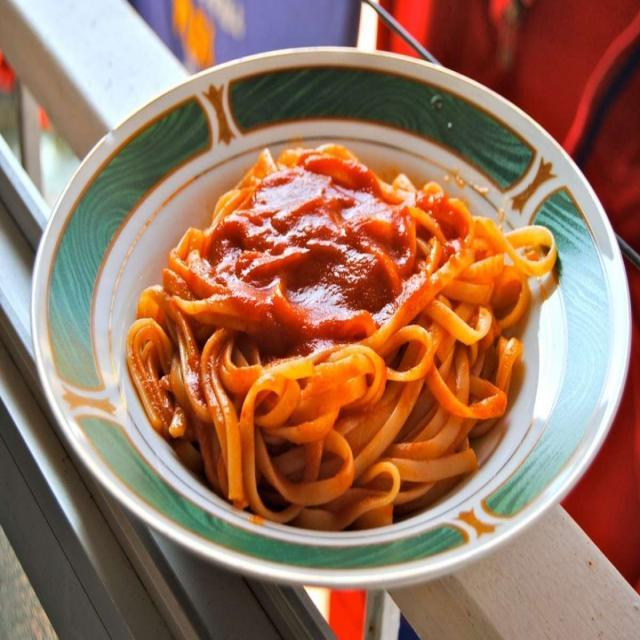Pasta al ragu: (119, 109, 590, 513)
